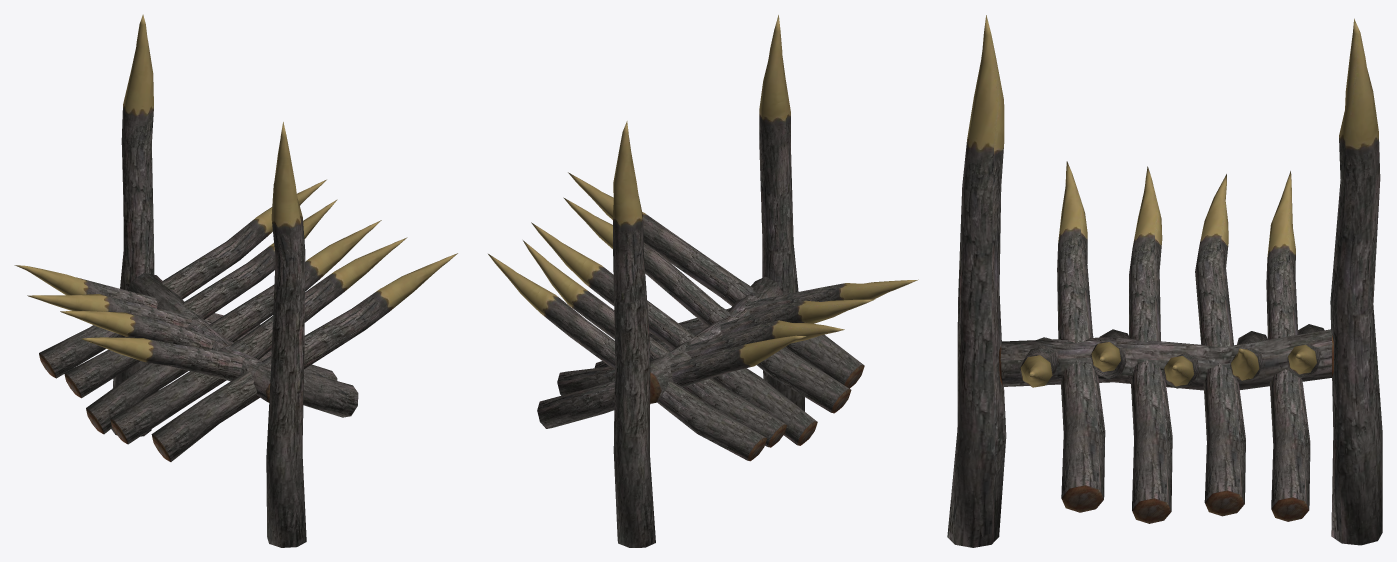
File: Barricade_Stakes.glb
The picture shows the model from 3 angles, left to right: view 1: azimuth 30°, elevation 25°; view 2: azimuth 150°, elevation 25°; view 3: azimuth 270°, elevation 25°; orthographic projection. The views are drawn at different scales.
Parts seen in each view (by area): view 1: Circle.001, Circle.004, Circle.002, Circle.005, Circle.006, Circle.013, Circle.008, Circle.007, Circle.012, Circle.003, Circle.011, Circle.010; view 2: Circle.002, Circle.001, Circle.008, Circle.005, Circle.004, Circle.006, Circle.010, Circle.007, Circle.011, Circle.003, Circle.013, Circle.012; view 3: Circle.002, Circle.001, Circle.013, Circle.012, Circle.011, Circle.010, Circle.003, Circle.004, Circle.005, Circle.007, Circle.008, Circle.006.
Part boxes in pixels (bbox=[...]): Circle.001: bbox=[266, 122, 306, 547]; Circle.004: bbox=[151, 253, 457, 461]; Circle.002: bbox=[111, 14, 154, 436]; Circle.005: bbox=[110, 237, 407, 444]; Circle.006: bbox=[86, 220, 381, 434]; Circle.013: bbox=[81, 337, 358, 417]; Circle.008: bbox=[39, 179, 326, 378]; Circle.007: bbox=[64, 199, 337, 398]; Circle.012: bbox=[60, 311, 337, 380]; Circle.003: bbox=[128, 273, 270, 402]; Circle.011: bbox=[27, 294, 271, 351]; Circle.010: bbox=[14, 265, 260, 331]; Circle.002: bbox=[613, 121, 655, 547]; Circle.001: bbox=[759, 15, 804, 411]; Circle.008: bbox=[488, 254, 767, 461]; Circle.005: bbox=[563, 197, 851, 413]; Circle.004: bbox=[568, 172, 864, 388]; Circle.006: bbox=[531, 222, 817, 445]; Circle.010: bbox=[537, 335, 806, 428]; Circle.007: bbox=[523, 240, 787, 447]; Circle.011: bbox=[557, 320, 844, 395]; Circle.003: bbox=[650, 276, 783, 403]; Circle.013: bbox=[649, 279, 918, 342]; Circle.012: bbox=[594, 299, 875, 368]; Circle.002: bbox=[1330, 18, 1382, 545]; Circle.001: bbox=[947, 15, 1006, 547]; Circle.013: bbox=[1057, 161, 1105, 512]; Circle.012: bbox=[1129, 166, 1172, 523]; Circle.011: bbox=[1195, 174, 1245, 516]; Circle.010: bbox=[1266, 171, 1310, 521]; Circle.003: bbox=[999, 329, 1333, 390]; Circle.004: bbox=[1019, 337, 1058, 387]; Circle.005: bbox=[1090, 329, 1128, 379]; Circle.007: bbox=[1230, 331, 1267, 381]; Circle.008: bbox=[1287, 324, 1324, 377]; Circle.006: bbox=[1163, 352, 1198, 388].
Bounding box in the file's own units: 1.37 × 1.5 × 1.12.
Materials: 1 (1 with a texture image).
